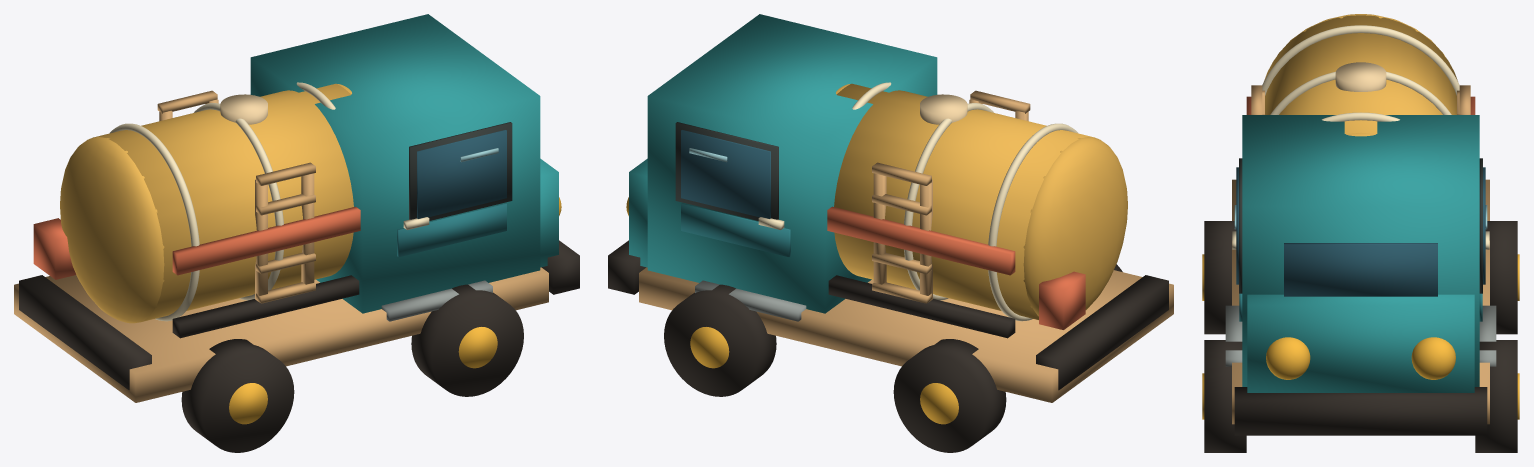
Rendered from fleet-tanker.glb.
The picture shows the model from 3 angles, left to right: view 1: azimuth 30°, elevation 25°; view 2: azimuth 150°, elevation 25°; view 3: azimuth 270°, elevation 25°; orthographic projection. The views are drawn at different scales.
Visible parts, largest first — view 1: Tanker_Cab, Tanker_Tank_Body, Tanker_Chassis, Tanker_Tank_Dome.001, Tanker_Wheel_3, Tanker_Wheel_1, Tanker_Left_Window, Tanker_Rear_Bumper, Tanker_Side_Stripe_Near, Tanker_Side_Pipe_Near, Tanker_Door_Panel_Left, Tanker_Window_Trim_Left (+16 smaller); view 2: Tanker_Cab, Tanker_Tank_Body, Tanker_Chassis, Tanker_Tank_Dome.001, Tanker_Wheel_4, Tanker_Wheel_2, Tanker_Right_Window, Tanker_Rear_Bumper, Tanker_Side_Stripe, Tanker_Side_Pipe, Tanker_Door_Panel_Right, Tanker_Rear_Valve_Box (+16 smaller); view 3: Tanker_Cab, Tanker_Hood, Tanker_Tank_Body, Tanker_Bumper, Tanker_Front_Window, Tanker_Wheel_1, Tanker_Wheel_2, Tanker_Wheel_3, Tanker_Wheel_4, Tanker_Band.002, Tanker_Chassis, Tanker_Headlight_L (+12 smaller).
Boxes of the visible parts, left/top/right/bottom form: Tanker_Cab: left=250, top=14, right=540, bottom=313; Tanker_Tank_Body: left=92, top=83, right=353, bottom=322; Tanker_Chassis: left=14, top=267, right=548, bottom=402; Tanker_Tank_Dome.001: left=60, top=136, right=164, bottom=323; Tanker_Wheel_3: left=181, top=339, right=294, bottom=452; Tanker_Wheel_1: left=411, top=284, right=523, bottom=396; Tanker_Left_Window: left=417, top=130, right=506, bottom=218; Tanker_Rear_Bumper: left=19, top=275, right=151, bottom=390; Tanker_Side_Stripe_Near: left=172, top=206, right=360, bottom=275; Tanker_Side_Pipe_Near: left=172, top=275, right=359, bottom=338; Tanker_Door_Panel_Left: left=397, top=203, right=506, bottom=256; Tanker_Window_Trim_Left: left=409, top=122, right=512, bottom=220; Tanker_Cab: left=647, top=14, right=937, bottom=313; Tanker_Tank_Body: left=834, top=83, right=1095, bottom=319; Tanker_Chassis: left=639, top=267, right=1173, bottom=402; Tanker_Tank_Dome.001: left=1023, top=136, right=1127, bottom=316; Tanker_Wheel_4: left=893, top=339, right=1006, bottom=452; Tanker_Wheel_2: left=664, top=284, right=776, bottom=396; Tanker_Right_Window: left=681, top=130, right=770, bottom=218; Tanker_Rear_Bumper: left=1036, top=275, right=1168, bottom=390; Tanker_Side_Stripe: left=827, top=206, right=1015, bottom=275; Tanker_Side_Pipe: left=828, top=275, right=1015, bottom=338; Tanker_Door_Panel_Right: left=681, top=203, right=790, bottom=256; Tanker_Rear_Valve_Box: left=1039, top=271, right=1085, bottom=329; Tanker_Cab: left=1242, top=115, right=1479, bottom=386; Tanker_Hood: left=1247, top=294, right=1474, bottom=392; Tanker_Tank_Body: left=1264, top=15, right=1457, bottom=133; Tanker_Bumper: left=1234, top=387, right=1487, bottom=435; Tanker_Front_Window: left=1284, top=243, right=1437, bottom=296; Tanker_Wheel_1: left=1204, top=340, right=1246, bottom=452; Tanker_Wheel_2: left=1475, top=340, right=1517, bottom=452; Tanker_Wheel_3: left=1204, top=221, right=1236, bottom=334; Tanker_Wheel_4: left=1485, top=221, right=1517, bottom=334; Tanker_Band.002: left=1262, top=25, right=1459, bottom=95; Tanker_Chassis: left=1232, top=179, right=1489, bottom=424; Tanker_Headlight_L: left=1266, top=337, right=1310, bottom=379.
Size of the model in its own units: 5.45 by 3.19 by 3.14.
